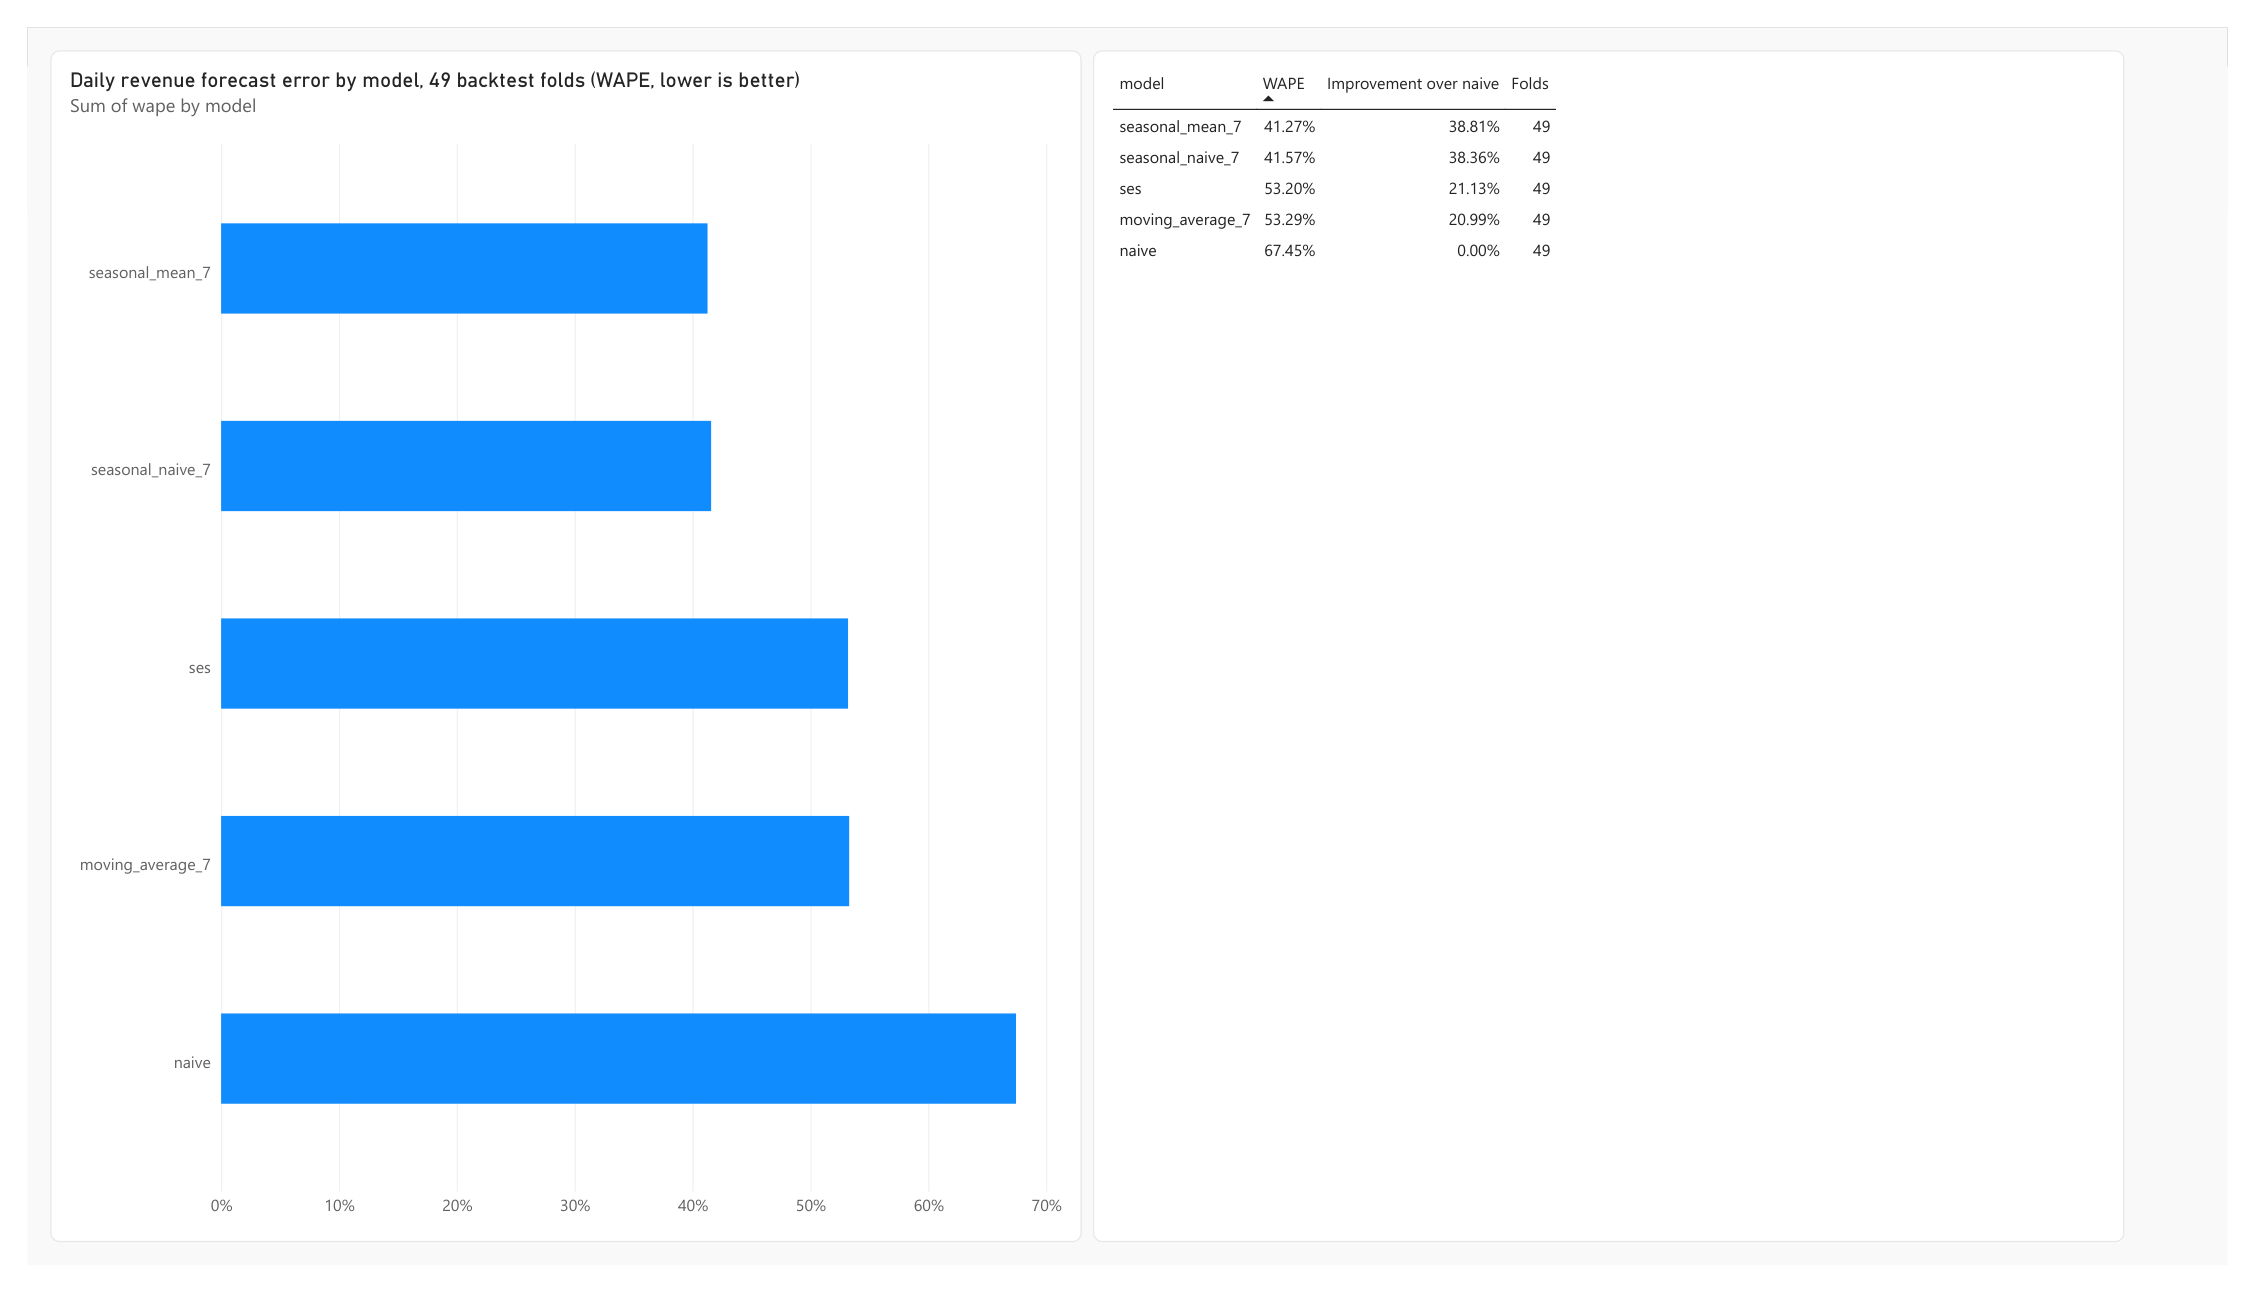

What the dashboard file says about the page in this screenshot:
{"tool":"powerbi","page":{"name":"Forecast","canvas":[1920,1080],"ordinal":3},"visuals":[{"type":"clusteredBarChart","title":"Daily revenue forecast error by model, 49 backtest folds (WAPE, lower is better)","fields":{"Category":["rootsignal rpt_forecast_accuracy.model"],"Y":["Sum(rootsignal rpt_forecast_accuracy.wape)"]},"box":[20,20,900,1040],"z":0},{"type":"tableEx","fields":{"Values":["rootsignal rpt_forecast_accuracy.model","Sum(rootsignal rpt_forecast_accuracy.wape)","Sum(rootsignal rpt_forecast_accuracy.wape_improvement_vs_baseline)","Sum(rootsignal rpt_forecast_accuracy.folds)"]},"box":[930,20,900,1040],"z":1}]}

Visuals, with their boxes in screenshot pixels (x1, y1, x2, y2), scaled from the page's 1920x1080 canvas onto the 2255x1293 screenshot:
"Daily revenue forecast error by model, 49 backtest folds (WAPE, lower is better)" clusteredBarChart: left=23, top=24, right=1081, bottom=1269
tableEx - rootsignal rpt_forecast_accuracy.model x Sum(rootsignal rpt_forecast_accuracy.wape): left=1092, top=24, right=2149, bottom=1269
